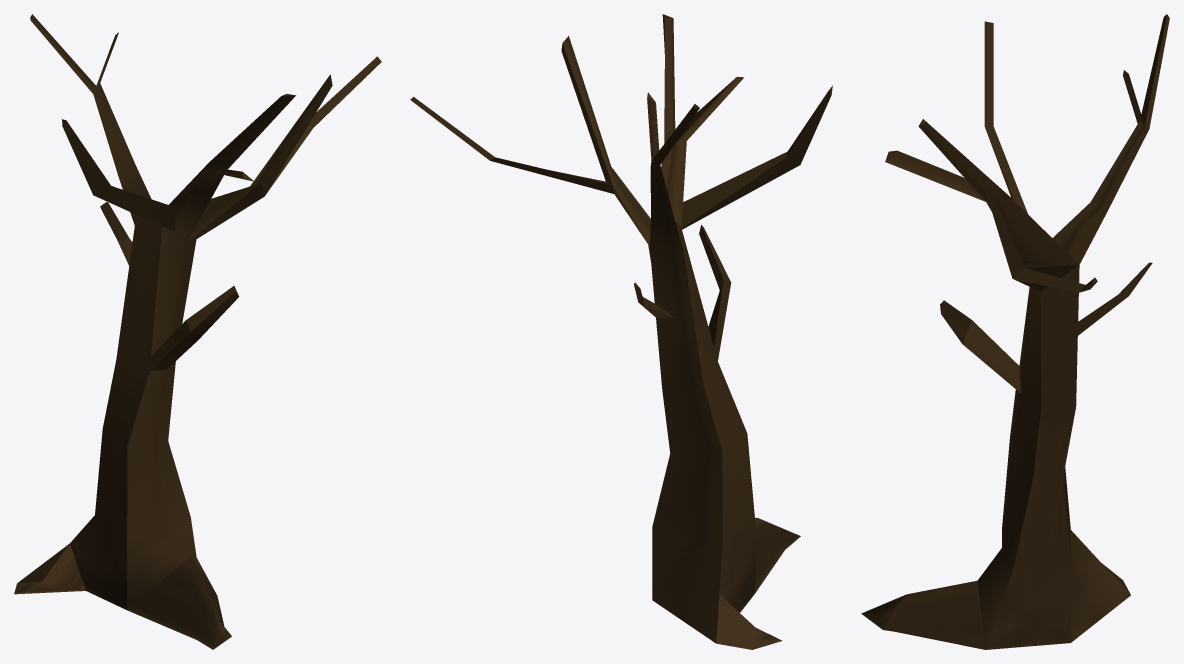
File: Tree2.fbx
3 renders of one model, left to right at view 1: azimuth 30°, elevation 25°; view 2: azimuth 150°, elevation 25°; view 3: azimuth 270°, elevation 25°, orthographic. The views are drawn at different scales.
Parts seen in each view (by area): view 1: pCube1; view 2: pCube1; view 3: pCube1.
Part boxes in pixels (bbox=[...]): pCube1: bbox=[14, 14, 381, 649]; pCube1: bbox=[410, 14, 832, 649]; pCube1: bbox=[861, 14, 1169, 649].
Size of the model in its own units: 3.52 by 5.01 by 2.4.
